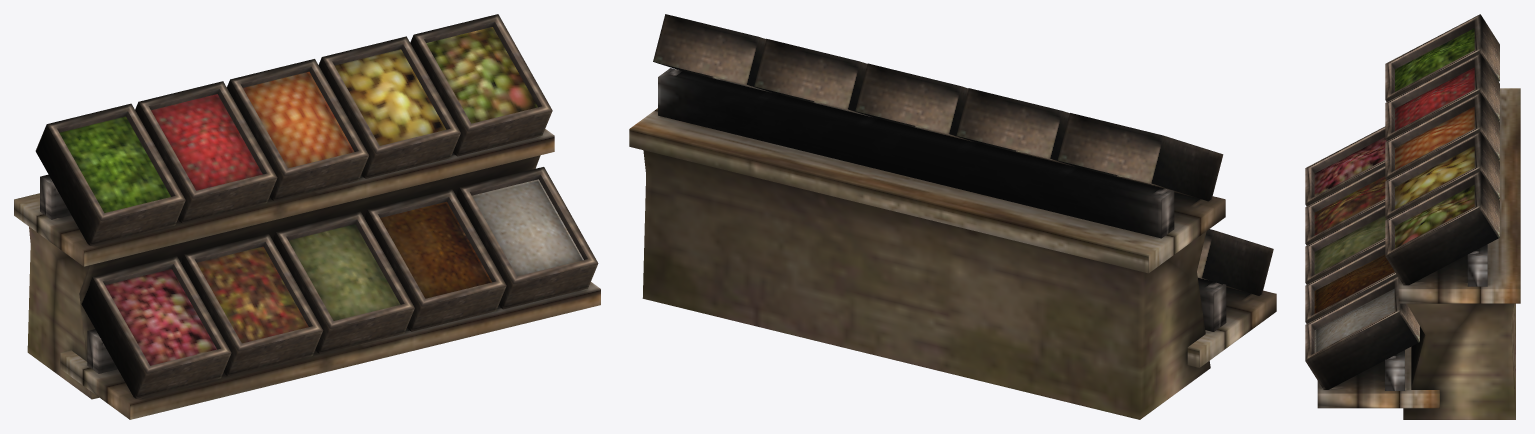
File: FruitStand_atlas.FBX
The picture shows the model from 3 angles, left to right: view 1: azimuth 30°, elevation 25°; view 2: azimuth 150°, elevation 25°; view 3: azimuth 270°, elevation 25°; orthographic projection. The views are drawn at different scales.
Parts seen in each view (by area): view 1: FruitStand; view 2: FruitStand; view 3: FruitStand.
Boxes of the visible parts, x1,y1,x2,y2 form: FruitStand: [14, 14, 600, 419]; FruitStand: [629, 14, 1276, 419]; FruitStand: [1305, 14, 1520, 419].
Size of the model in its own units: 3.93 by 1.94 by 1.78.
